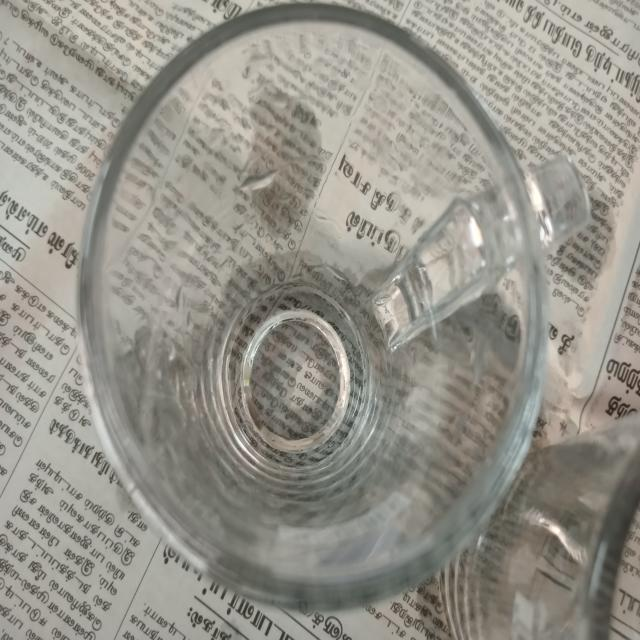glass-VX4N: (75, 6, 587, 614)
